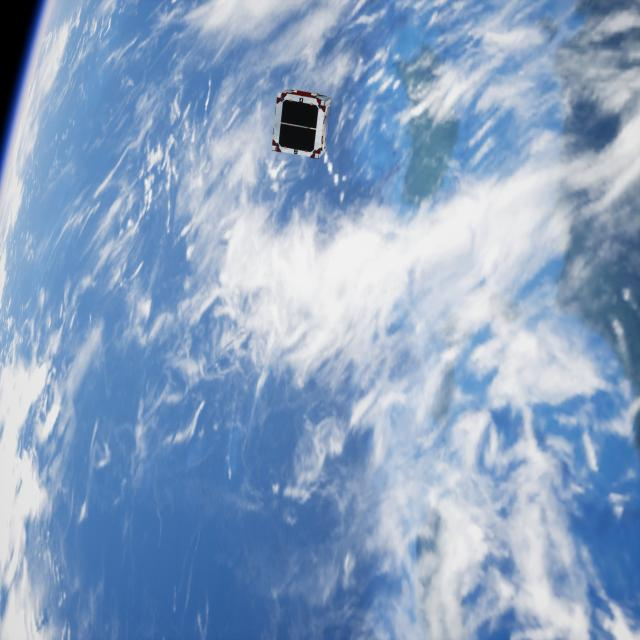satellite: (272, 88, 333, 160)
